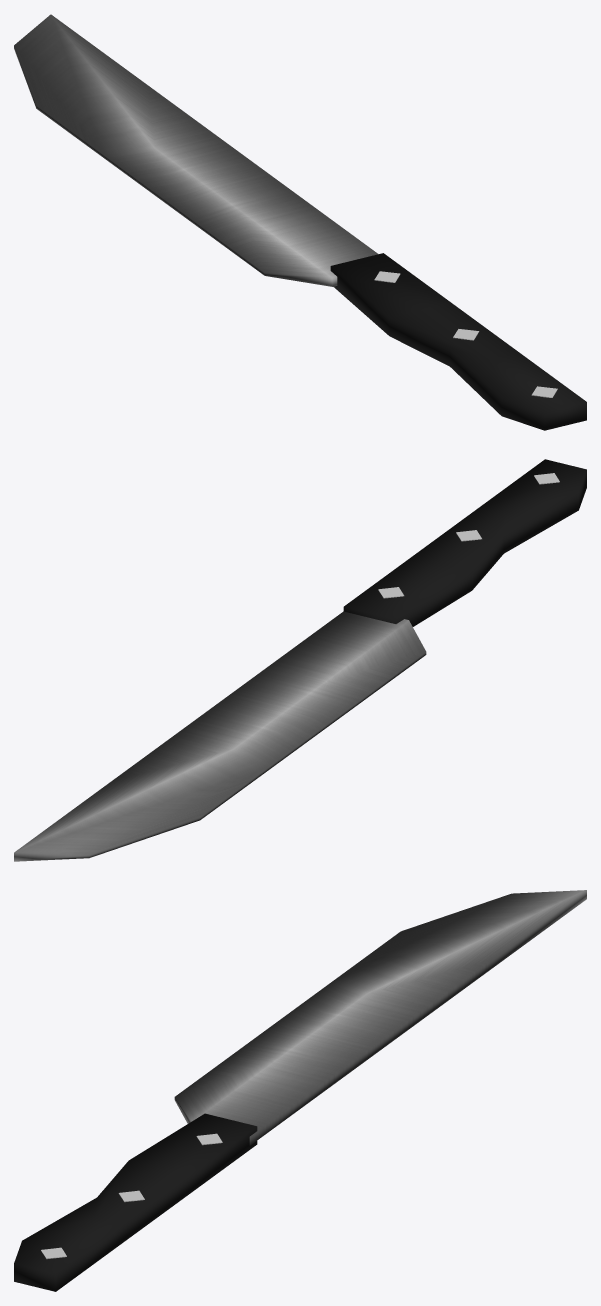
The model's file is Kitchen_Knife.FBX.
3 renders of one model, top to bottom at view 1: azimuth 30°, elevation 25°; view 2: azimuth 150°, elevation 25°; view 3: azimuth 330°, elevation 25°, orthographic.
Parts seen in each view (by area): view 1: Handle; view 2: Handle; view 3: Handle.
Part boxes in pixels (x1,y1,x2,y2): Handle: (14, 14, 586, 430); Handle: (14, 459, 586, 861); Handle: (14, 890, 586, 1291).
Bounding box in the file's own units: 11.51 × 2.13 × 105.
